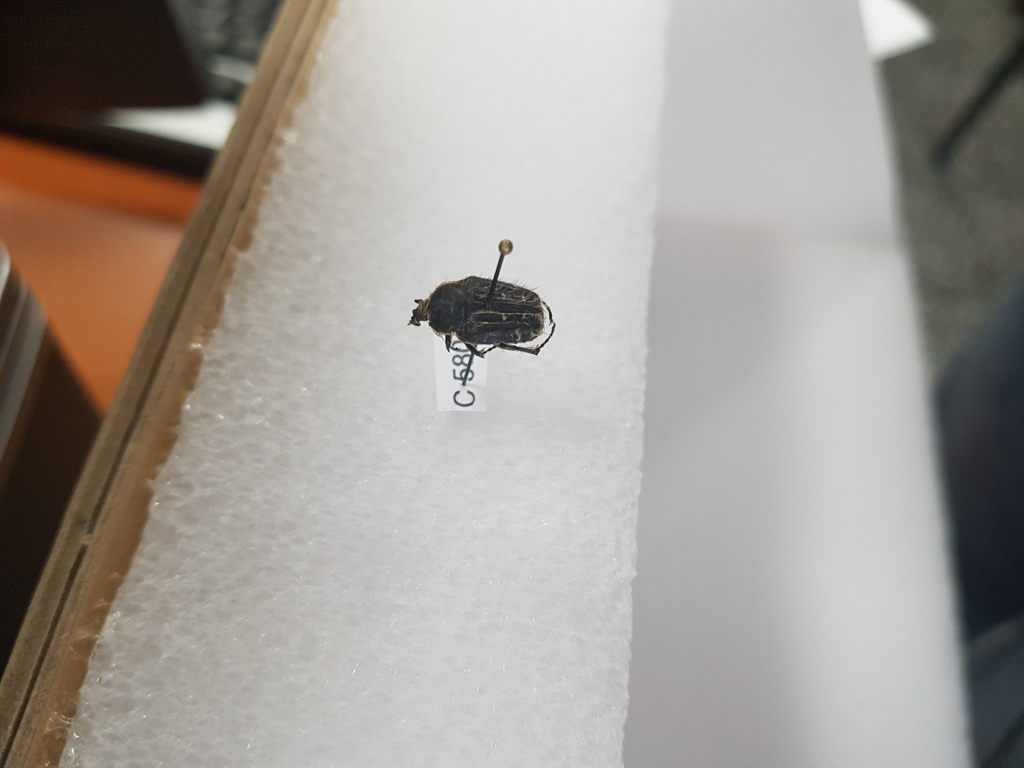Tropinota_hirta: (402, 269, 567, 365)
